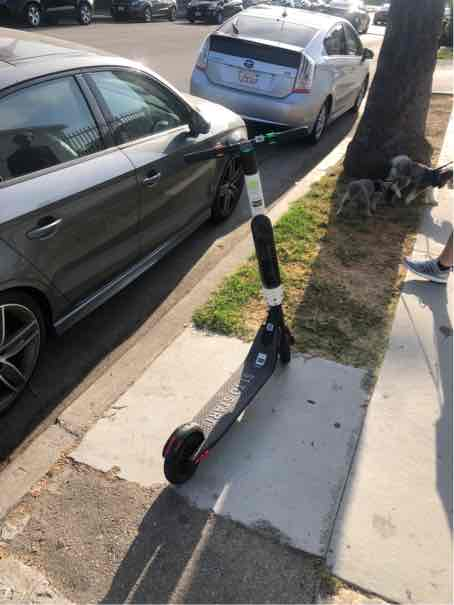scooter: (151, 119, 324, 485)
